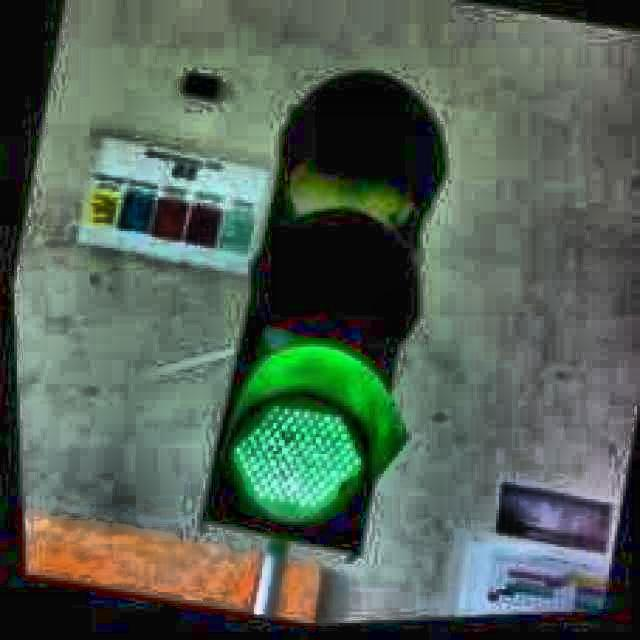green: (203, 82, 443, 560)
